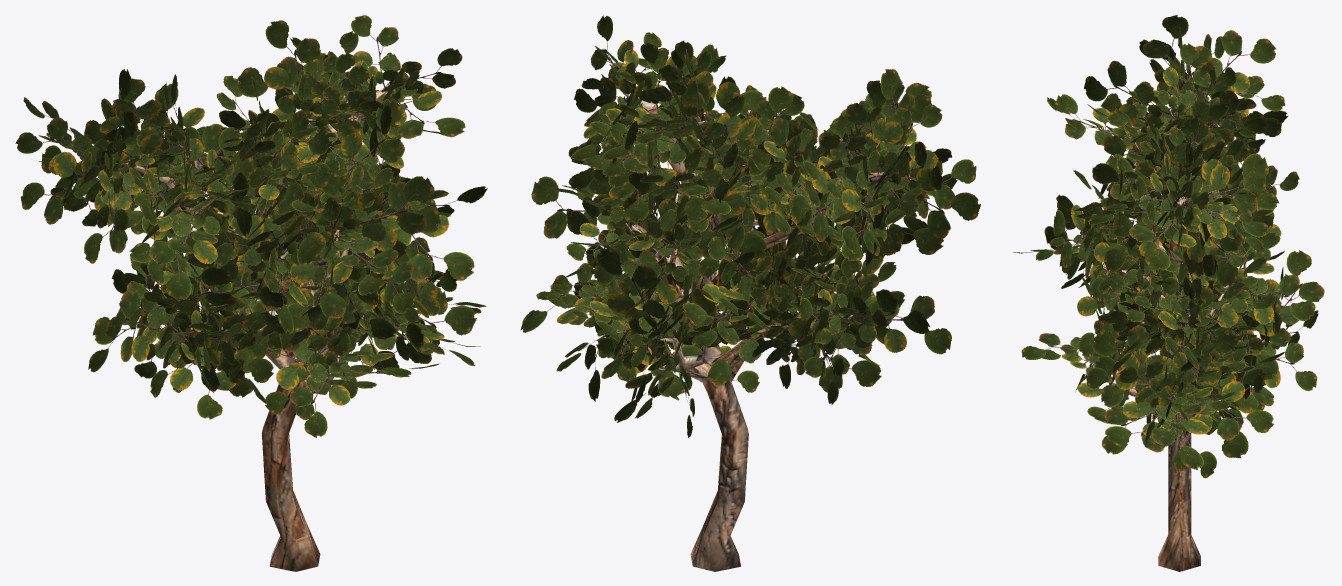
Rendered from tree.fbx.
3 renders of one model, left to right at view 1: azimuth 30°, elevation 25°; view 2: azimuth 150°, elevation 25°; view 3: azimuth 270°, elevation 25°, orthographic. The views are drawn at different scales.
Parts seen in each view (by area): view 1: Tree, Tree|leaves-texture.001|Dupli|251, Tree|leaves-texture.001|Dupli|223, Tree|leaves-texture.001|Dupli|195, Tree|leaves-texture.001|Dupli|2, Tree|leaves-texture.001|Dupli|273, Tree|leaves-texture.001|Dupli|329, Tree|leaves-texture.001|Dupli|229, Tree|leaves-texture.001|Dupli|261, Tree|leaves-texture.001|Dupli|123, Tree|leaves-texture.001|Dupli|257, Tree|leaves-texture.001|Dupli|258 (+68 smaller); view 2: Tree, Tree|leaves-texture.001|Dupli|341, Tree|leaves-texture.001|Dupli|227, Tree|leaves-texture.001|Dupli|294, Tree|leaves-texture.001|Dupli|2, Tree|leaves-texture.001|Dupli|41, Tree|leaves-texture.001|Dupli|43, Tree|leaves-texture.001|Dupli|111, Tree|leaves-texture.001|Dupli|75, Tree|leaves-texture.001|Dupli|273, Tree|leaves-texture.001|Dupli|196, Tree|leaves-texture.001|Dupli|145 (+65 smaller); view 3: Tree, Tree|leaves-texture.001|Dupli|188, Tree|leaves-texture.001|Dupli|64, Tree|leaves-texture.001|Dupli|272, Tree|leaves-texture.001|Dupli|311, Tree|leaves-texture.001|Dupli|97, Tree|leaves-texture.001|Dupli|300, Tree|leaves-texture.001|Dupli|9, Tree|leaves-texture.001|Dupli|5, Tree|leaves-texture.001|Dupli|342, Tree|leaves-texture.001|Dupli|46, Tree|leaves-texture.001|Dupli|56 (+63 smaller).
Part boxes in pixels (<box>): Tree: <box>121,88,388,571</box>; Tree|leaves-texture.001|Dupli|251: <box>336,176,434,241</box>; Tree|leaves-texture.001|Dupli|223: <box>149,209,220,300</box>; Tree|leaves-texture.001|Dupli|195: <box>264,20,320,113</box>; Tree|leaves-texture.001|Dupli|2: <box>20,146,105,224</box>; Tree|leaves-texture.001|Dupli|273: <box>92,290,169,361</box>; Tree|leaves-texture.001|Dupli|329: <box>289,355,352,437</box>; Tree|leaves-texture.001|Dupli|229: <box>325,98,404,181</box>; Tree|leaves-texture.001|Dupli|261: <box>287,235,346,331</box>; Tree|leaves-texture.001|Dupli|123: <box>394,200,474,281</box>; Tree|leaves-texture.001|Dupli|257: <box>320,234,398,295</box>; Tree|leaves-texture.001|Dupli|258: <box>349,181,441,251</box>; Tree: <box>622,92,888,571</box>; Tree|leaves-texture.001|Dupli|341: <box>596,248,666,337</box>; Tree|leaves-texture.001|Dupli|227: <box>684,169,766,261</box>; Tree|leaves-texture.001|Dupli|294: <box>855,295,951,354</box>; Tree|leaves-texture.001|Dupli|2: <box>889,166,980,238</box>; Tree|leaves-texture.001|Dupli|41: <box>846,80,903,174</box>; Tree|leaves-texture.001|Dupli|43: <box>791,163,856,241</box>; Tree|leaves-texture.001|Dupli|111: <box>531,176,613,238</box>; Tree|leaves-texture.001|Dupli|75: <box>797,311,881,392</box>; Tree|leaves-texture.001|Dupli|273: <box>849,289,929,348</box>; Tree|leaves-texture.001|Dupli|196: <box>610,143,686,223</box>; Tree|leaves-texture.001|Dupli|145: <box>703,95,756,168</box>; Tree: <box>1101,106,1261,571</box>; Tree|leaves-texture.001|Dupli|188: <box>1084,60,1169,129</box>; Tree|leaves-texture.001|Dupli|64: <box>1178,153,1268,215</box>; Tree|leaves-texture.001|Dupli|272: <box>1231,274,1315,324</box>; Tree|leaves-texture.001|Dupli|311: <box>1092,325,1166,403</box>; Tree|leaves-texture.001|Dupli|97: <box>1195,381,1273,440</box>; Tree|leaves-texture.001|Dupli|300: <box>1151,396,1208,469</box>; Tree|leaves-texture.001|Dupli|9: <box>1202,30,1275,99</box>; Tree|leaves-texture.001|Dupli|5: <box>1143,15,1212,92</box>; Tree|leaves-texture.001|Dupli|342: <box>1253,250,1324,324</box>; Tree|leaves-texture.001|Dupli|46: <box>1129,211,1198,270</box>; Tree|leaves-texture.001|Dupli|56: <box>1104,209,1179,272</box>.
Bounding box in the file's own units: 2228 × 2460 × 1490.
